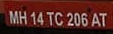character: (90, 12, 100, 27), (8, 10, 18, 24), (18, 10, 27, 25), (45, 11, 54, 26), (54, 11, 63, 26), (98, 12, 107, 27), (80, 12, 88, 27), (36, 11, 43, 25), (66, 12, 73, 26), (73, 12, 80, 26), (30, 11, 36, 25)
